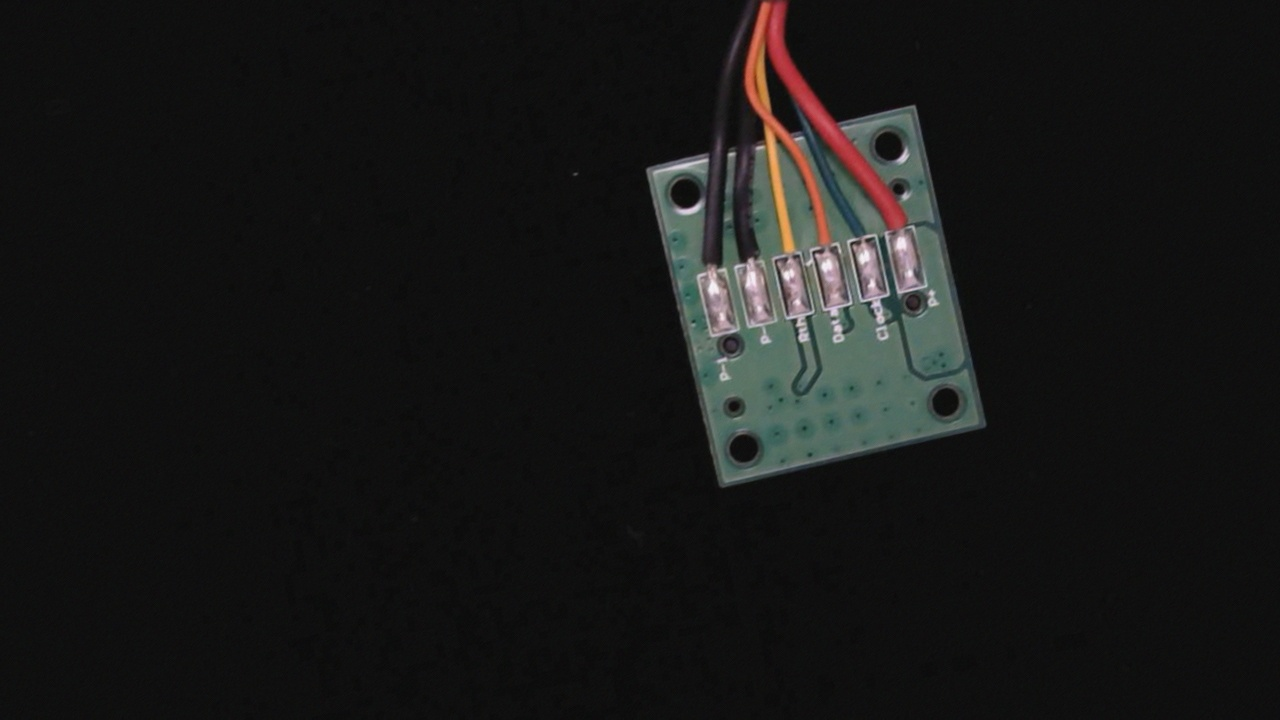Black: (724, 210, 766, 284)
Black1: (689, 227, 728, 289)
Green: (832, 186, 879, 261)
Orange: (796, 192, 841, 269)
Red: (870, 175, 917, 250)
Yellow: (762, 202, 803, 277)
